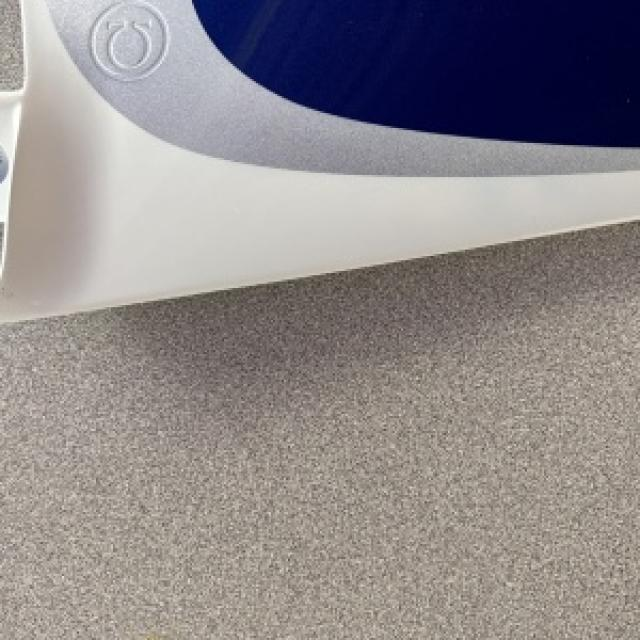healthy: (0, 0, 638, 320)
